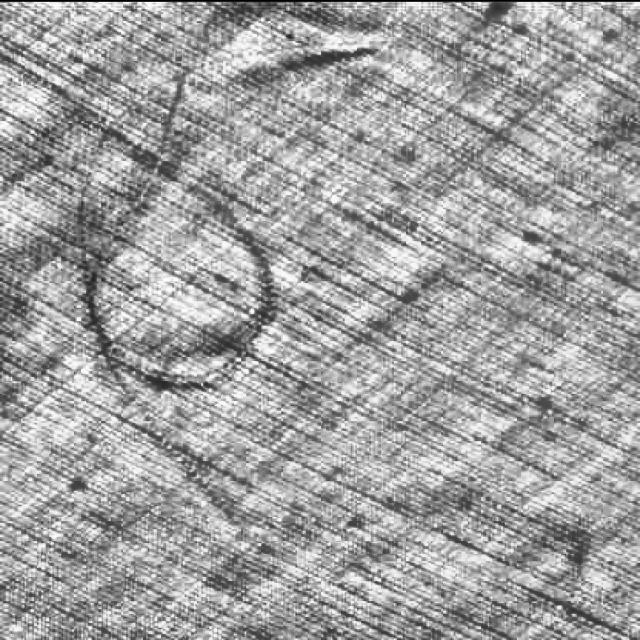objects: (0, 2, 380, 392)
